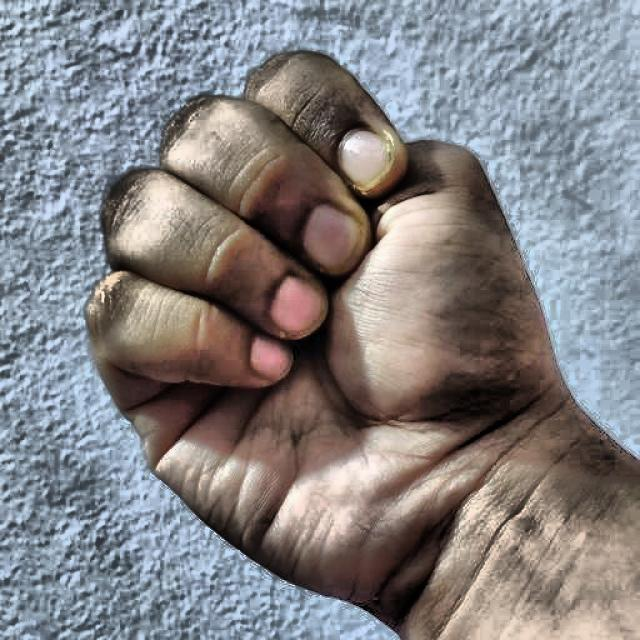To: (57, 34, 585, 612)
